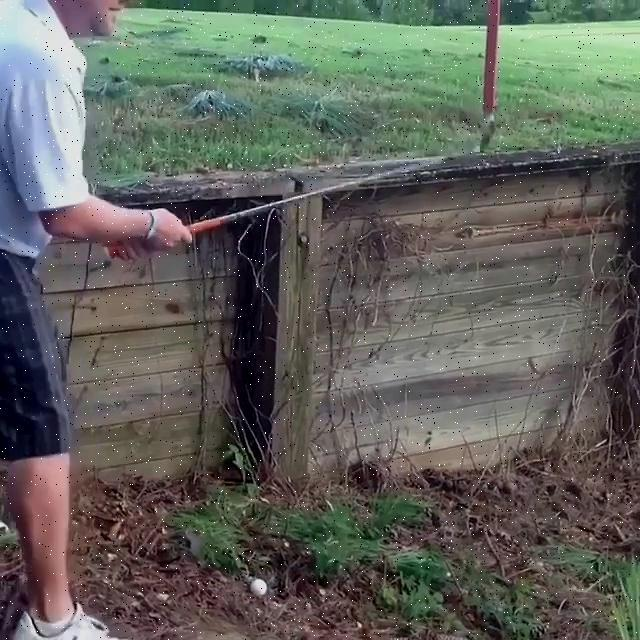golf ball: (250, 574, 269, 595)
golf club-handle: (105, 114, 496, 254)
golf club-head: (478, 114, 496, 154)
